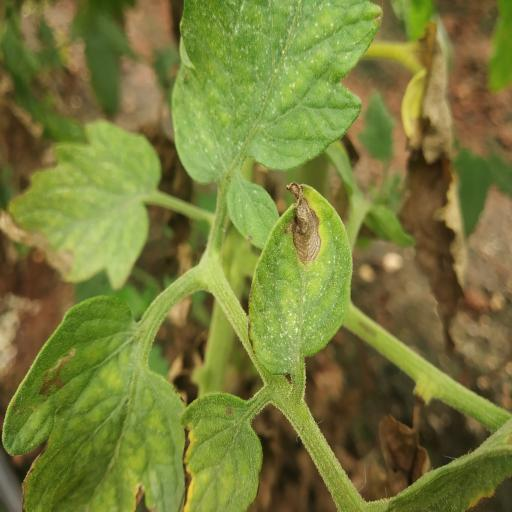Early Blight: (244, 178, 358, 374)
